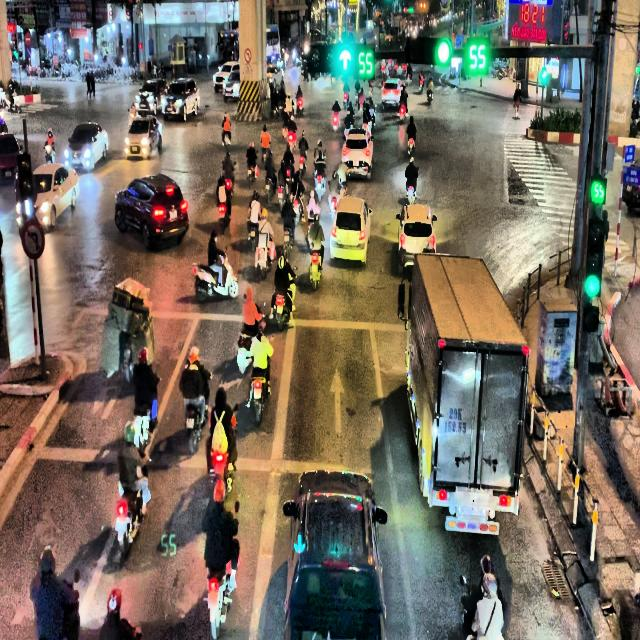lisence_plate: (19, 216, 45, 260), (446, 408, 468, 442), (459, 505, 486, 520), (341, 234, 353, 245), (168, 211, 178, 219), (353, 161, 360, 167)
